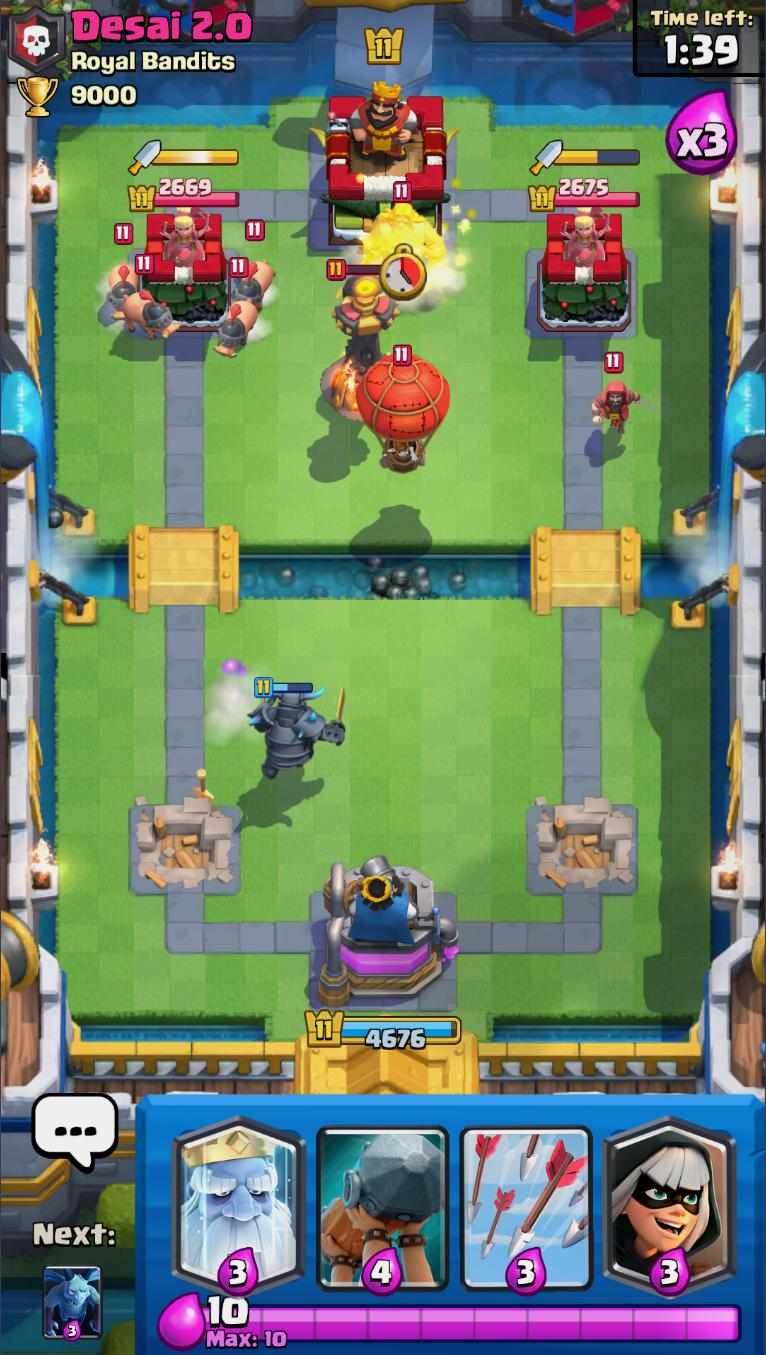ArrowDeck: (454, 1094, 599, 1296)
Balloon: (354, 344, 451, 476)
BanditDeck: (597, 1094, 741, 1296)
BattleRamDeck: (313, 1094, 456, 1293)
DaggerDuchess: (556, 204, 614, 266), (160, 207, 210, 266)
Daggers: (129, 140, 239, 179), (530, 139, 641, 171)
Elixir: (201, 1296, 747, 1351)
EnemyTower: (534, 210, 634, 336), (136, 209, 233, 331)
GoldenKnight: (357, 181, 447, 271)
Inferno: (320, 257, 411, 426)
KingTower: (306, 80, 460, 254)
MinionsNext: (40, 1263, 104, 1341)
MyKingHP: (306, 1009, 461, 1050)
MyKingTower: (314, 860, 460, 1007)
MyPekka: (247, 674, 349, 781)
MyPrincessTowerBrocken: (131, 800, 243, 897), (529, 801, 639, 891)
RoyaleGhostDeck: (166, 1093, 311, 1293)
RoyalePig: (123, 253, 180, 343), (216, 257, 257, 357), (234, 219, 277, 310), (106, 221, 140, 326)
TowerPrincessHP: (530, 176, 640, 211), (127, 177, 240, 211)
Wizard: (591, 347, 639, 440)
